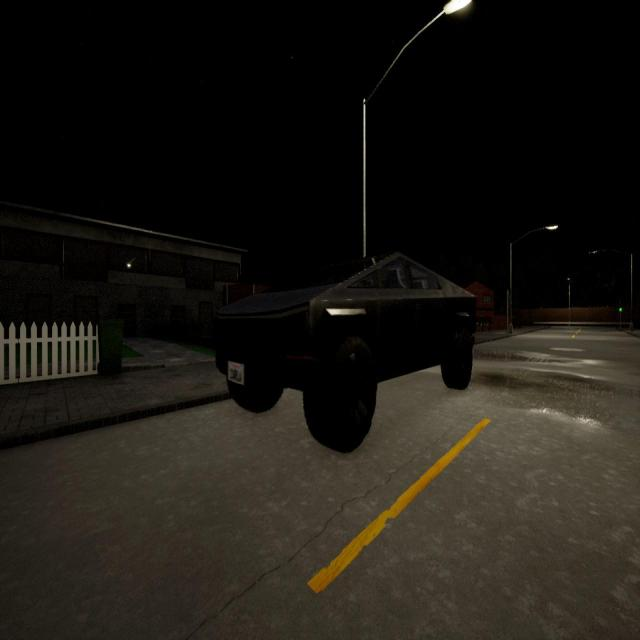Vehicle: (215, 253, 475, 451)
traffic_light: (619, 304, 622, 313)
